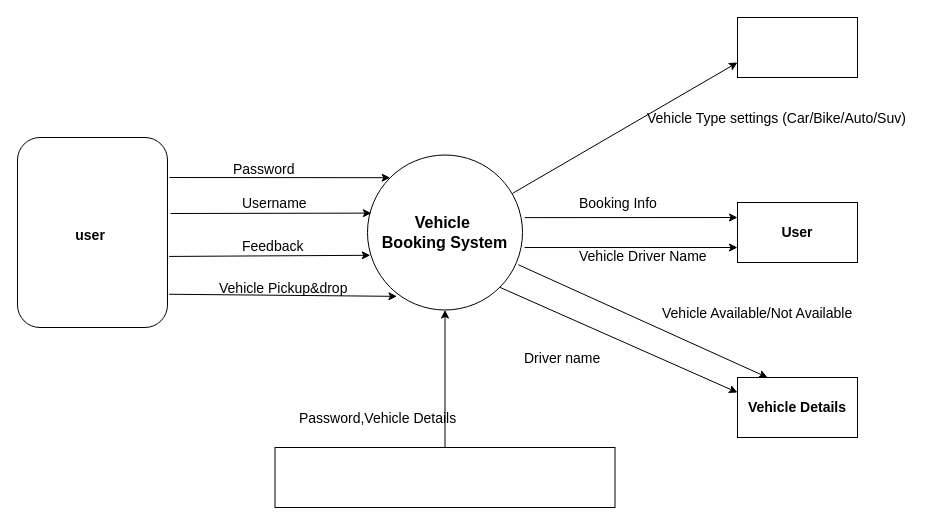
Image size: 933x525. Some labels were removed from this diagram. Each missing label, with the box of its shape:
System Configuration Data: (274, 446, 615, 508)
User Enquery: (736, 16, 858, 78)
